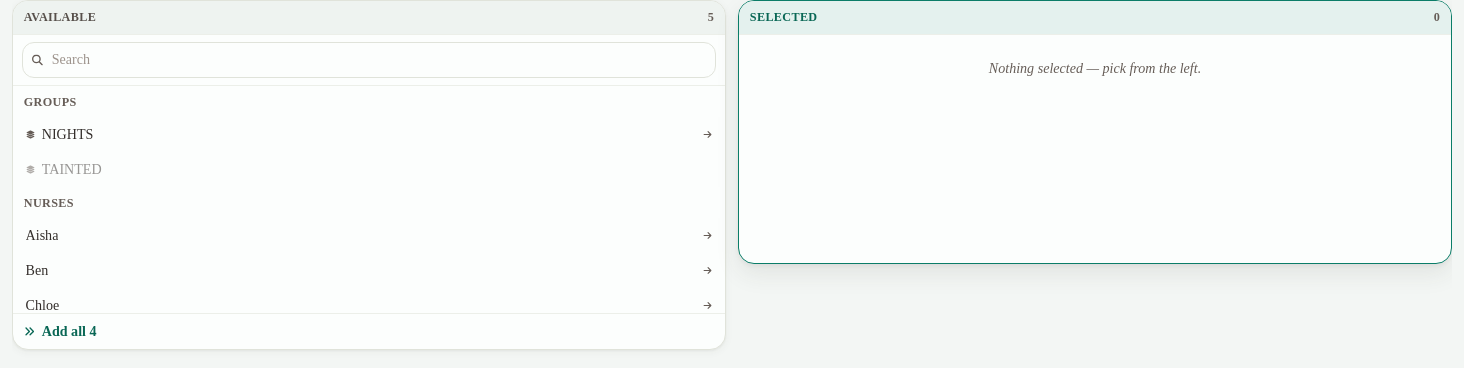
Test: TransferList — groups and disabled options › sections groups before items in both panes
Expected: the text "GROUPS" is shown, [18,86,720,117]
Expected: the text "NURSES" is shown, [18,187,720,218]
Click the button with aria-label "Add NIGHTS".
click(68, 134)  # box [18,117,720,152]
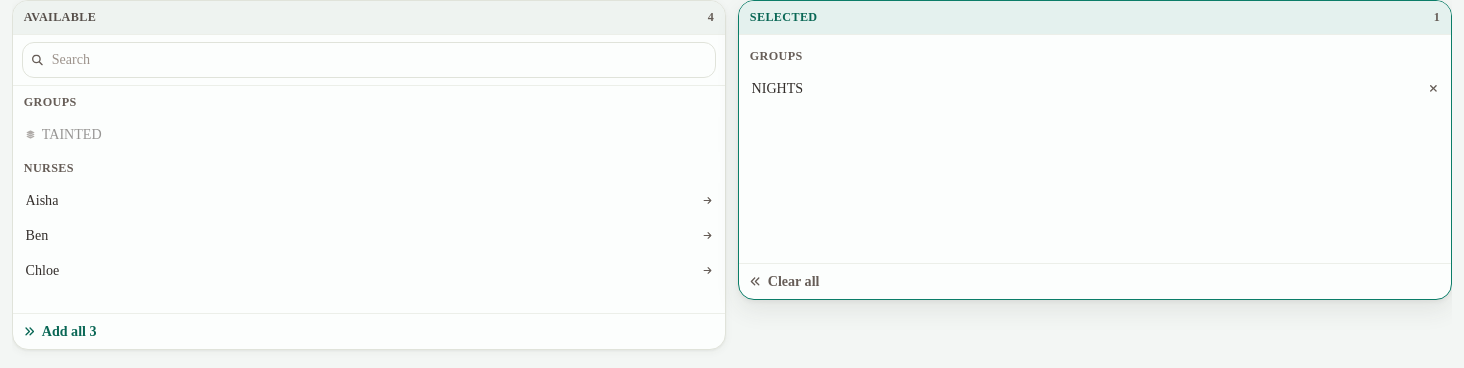
Click the button with aria-label "Add Aisha".
click(42, 200)  # box [18,183,720,218]
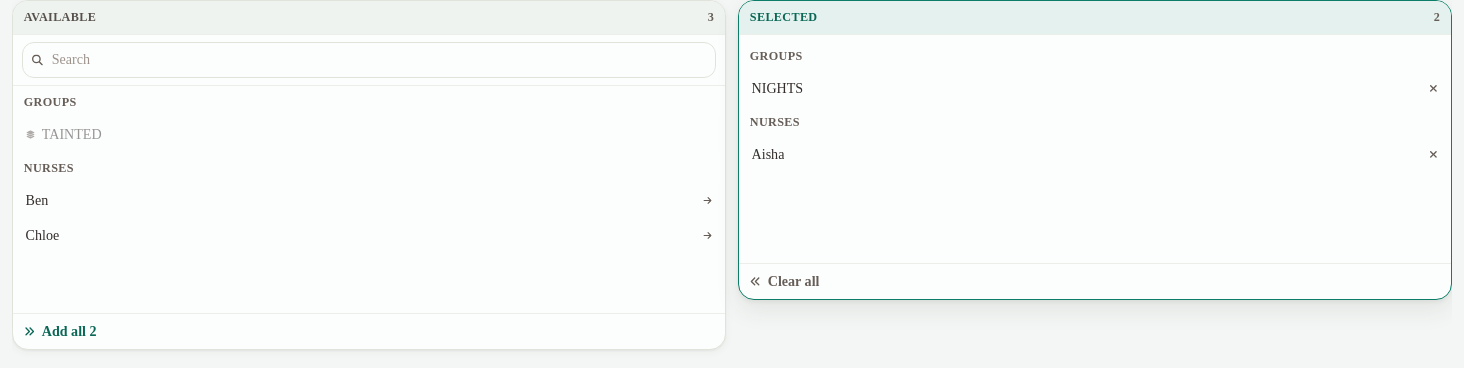
Now the text "GROUPS" below "SELECTED" is shown, box [750,49,803,63]
Now the text "NURSES" below "SELECTED" is shown, box [750,115,800,129]
